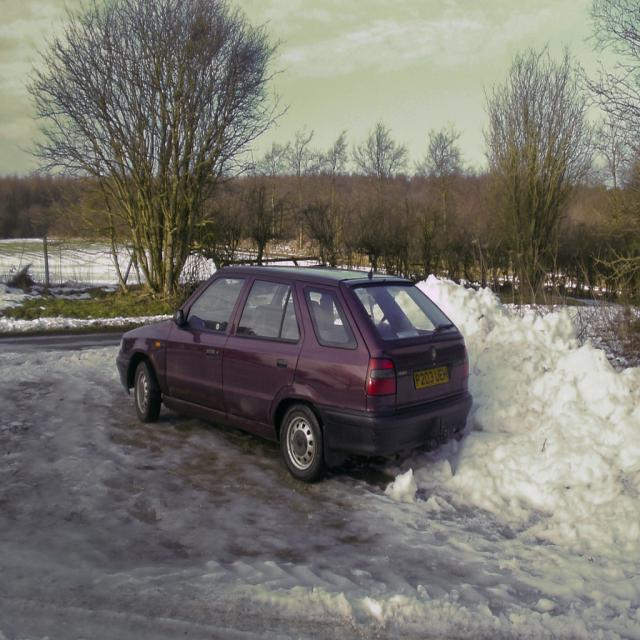Passenger Car: (114, 266, 473, 483)
